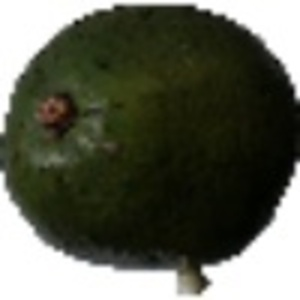abacate: (2, 3, 297, 273)
